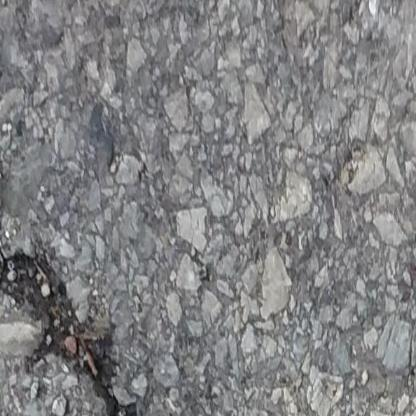Cracks: (0, 207, 215, 416)
